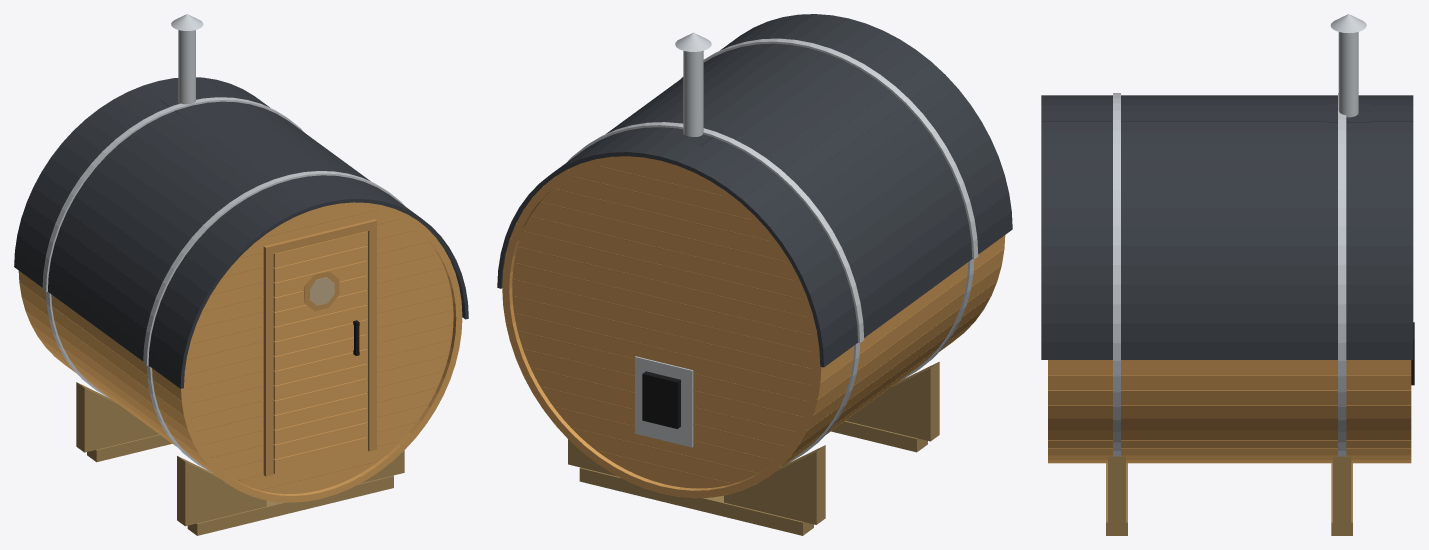
File: баня_бочка_2_2_м_печь_каменка_лавки_с_двух_сторон.glb
3 views of the same model, side by side, from view 1: azimuth 30°, elevation 25°; view 2: azimuth 150°, elevation 25°; view 3: azimuth 270°, elevation 25° (orthographic). The views are drawn at different scales.
Visible parts, largest first — view 1: roof, walls, barrel; view 2: walls, roof, barrel; view 3: roof, walls, barrel.
Part boxes in pixels (bbox=[...]): roof: bbox=[14, 77, 468, 388]; walls: bbox=[18, 207, 462, 502]; barrel: bbox=[46, 14, 404, 535]; walls: bbox=[502, 163, 1005, 498]; roof: bbox=[497, 14, 1012, 367]; barrel: bbox=[568, 32, 974, 535]; roof: bbox=[1041, 93, 1413, 360]; walls: bbox=[1048, 360, 1411, 463]; barrel: bbox=[1106, 14, 1414, 535].
Size of the model in its own units: 2.07 by 2.84 by 2.06.
